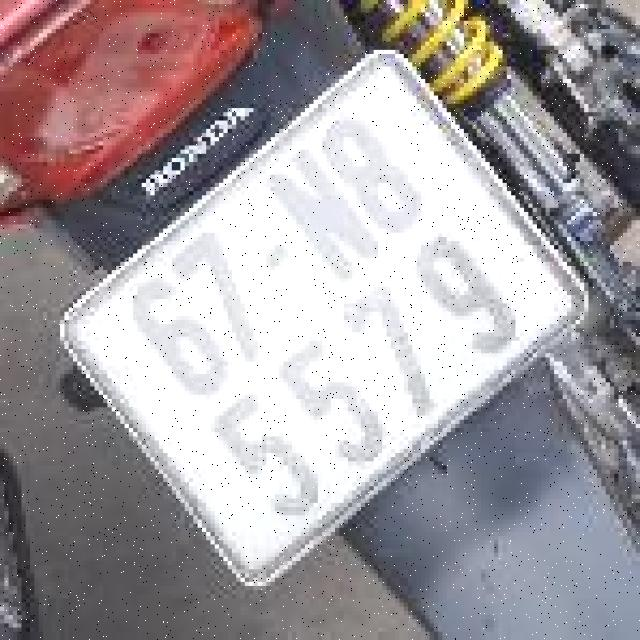5: (191, 379, 338, 544), (266, 323, 406, 481)
6: (103, 260, 239, 414)
7: (327, 266, 456, 434), (158, 215, 288, 376)
8: (311, 94, 441, 249)
9: (397, 215, 540, 370)
N: (251, 132, 392, 298)
